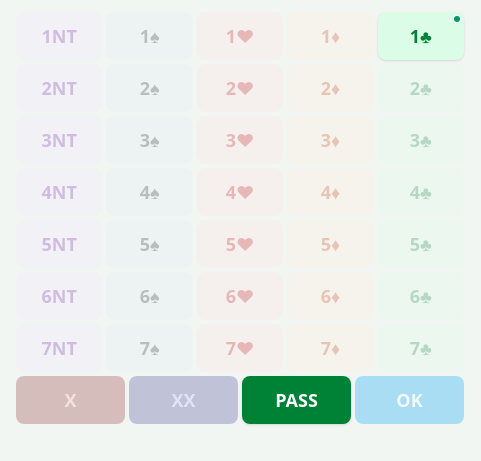
Test: BiddingBox › motorns rekommendation får märket MOTORNS BUD + sin äkta förklaring
Click the button "1♣" at [421, 36], box [378,12,464,60]
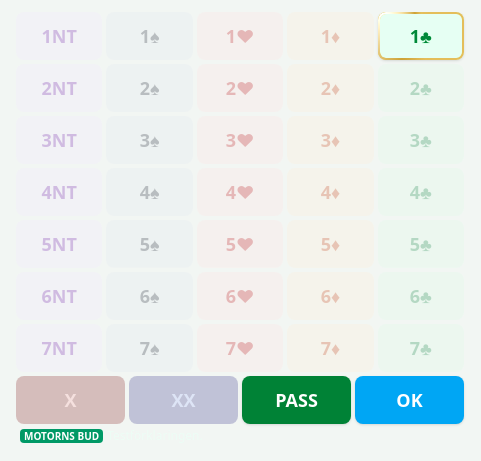
Expected: the text "MOTORNS BUD" is shown, [20,429,103,443]
